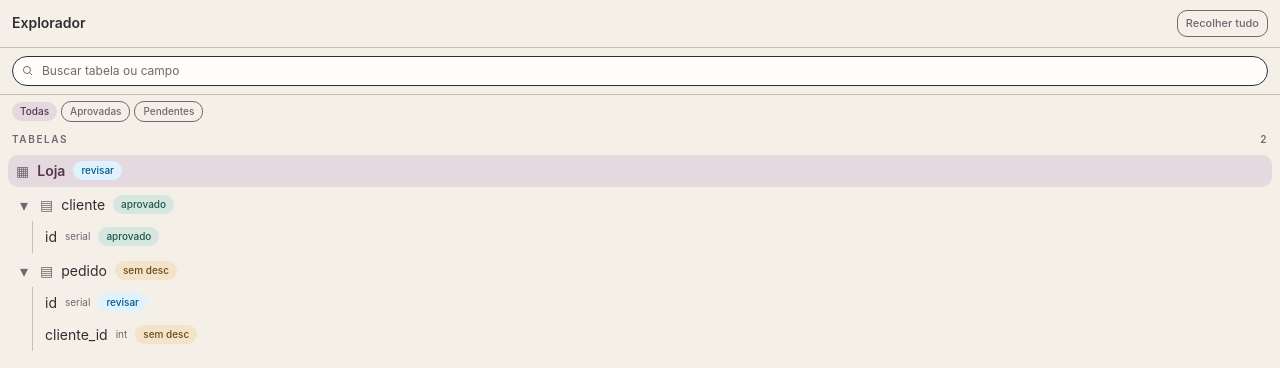
Test: SemanticTree › recolhe e expande uma tabela individualmente
Expected: the button with test id "column-row-pedido-id" is shown, [37, 286, 1272, 318]
Click the button named "Recolher tabela pedido". click: (24, 270)
box: [12, 258, 36, 282]
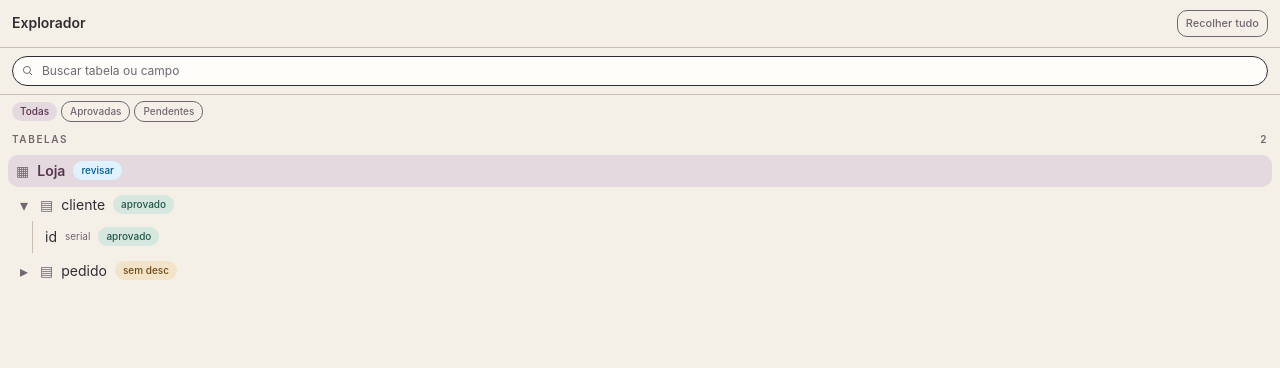
Expected: the button with test id "column-row-cliente-id" is shown, [37, 220, 1272, 252]
Now the button with test id "column-row-pedido-id" is gone
Click the button named "Expandir tabela pedido". click: (24, 270)
box: [12, 258, 36, 282]
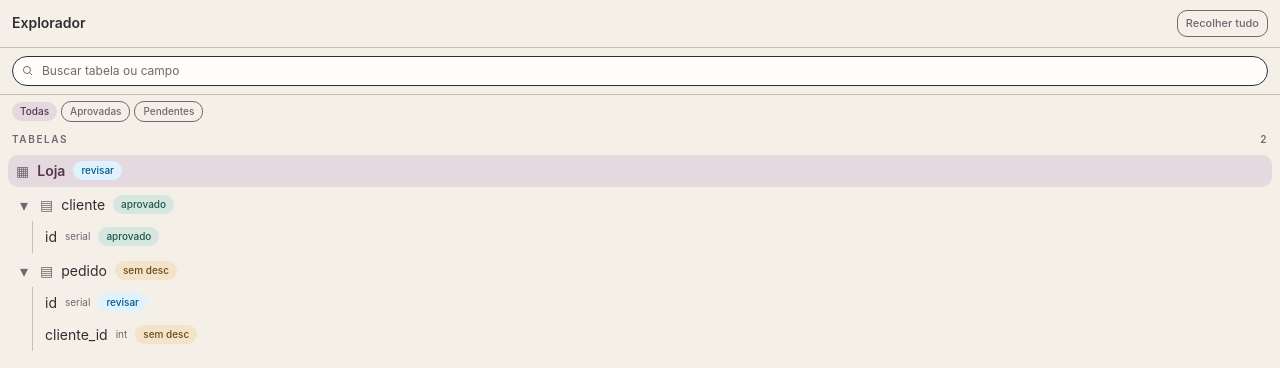
Now the button with test id "column-row-pedido-id" is shown, box [37, 286, 1272, 318]
